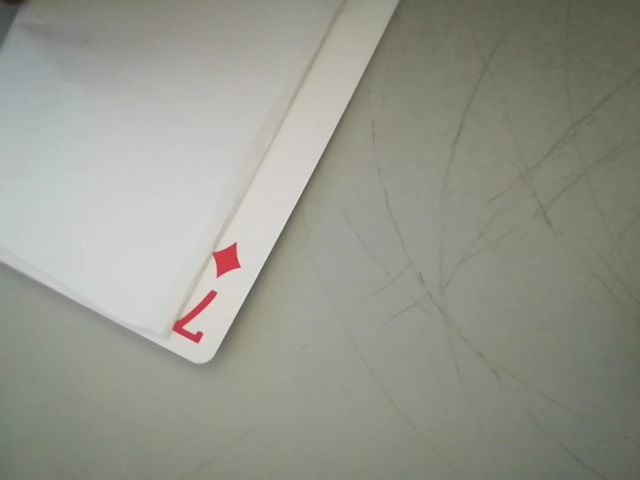fk 7: (166, 232, 252, 359)
